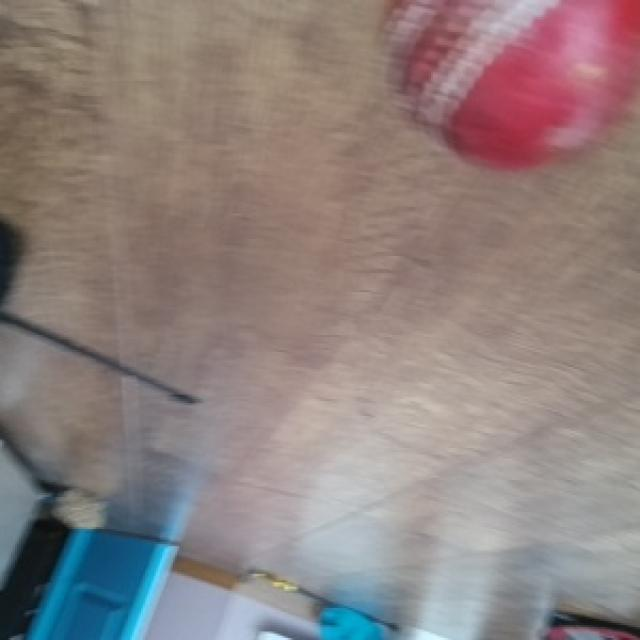ball: (382, 0, 640, 173)
